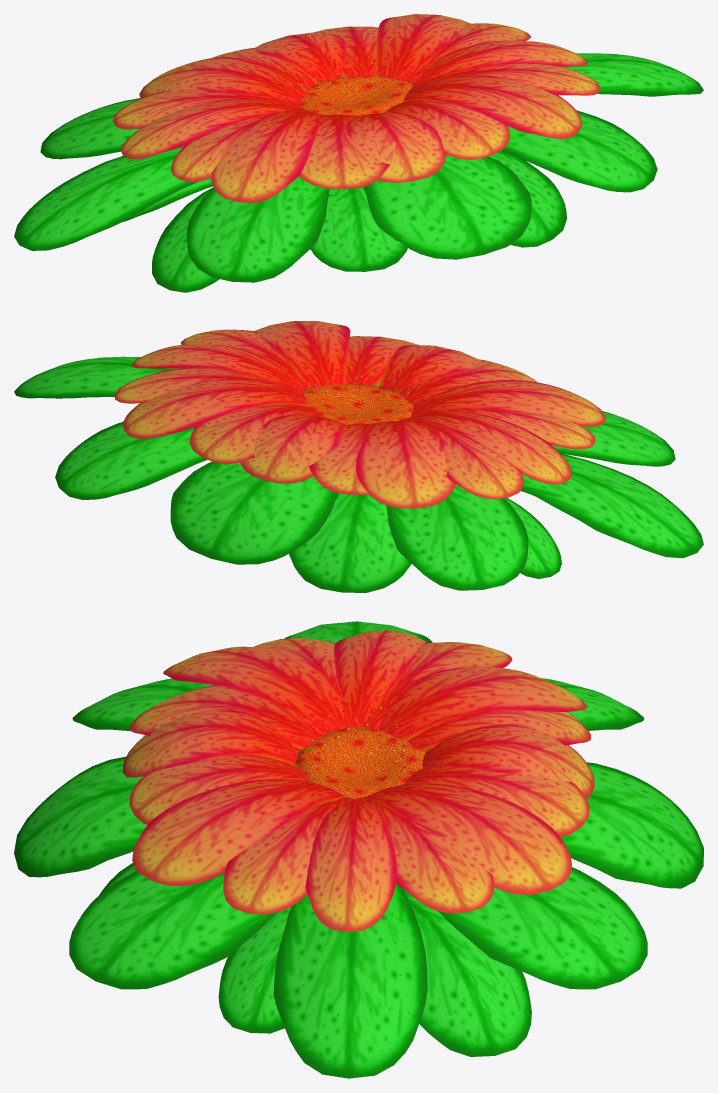
The model's file is hierba.obj.
3 views of the same model, one above another, from view 1: azimuth 30°, elevation 25°; view 2: azimuth 150°, elevation 25°; view 3: azimuth 270°, elevation 25° (orthographic). The views are drawn at different scales.
Visible parts, largest first — view 1: Plane033_Mesh.016, Plane031_Mesh.014, Plane032_Mesh.015, Plane028_Mesh.010, Plane037_Mesh.020, Plane036_Mesh.019, Plane049_Mesh.032, Plane035_Mesh.018, Plane038_Mesh.021, Plane039_Mesh.022, Plane041_Mesh.024, Plane021_Mesh.003 (+15 smaller); view 2: Plane019_Mesh.001, Plane034_Mesh.017, Plane032_Mesh.015, Plane046_Mesh.029, Plane024_Mesh.006, Plane039_Mesh.022, Plane041_Mesh.024, Plane037_Mesh.020, Plane040_Mesh.023, Plane038_Mesh.021, Plane036_Mesh.019, Plane026_Mesh.008 (+13 smaller); view 3: Plane026_Mesh.008, Plane028_Mesh.010, Plane024_Mesh.006, Plane036_Mesh.019, Plane041_Mesh.024, Plane043_Mesh.026, Plane019_Mesh.001, Plane033_Mesh.016, Plane042_Mesh.025, Plane039_Mesh.022, Plane037_Mesh.020, Plane035_Mesh.018 (+15 smaller).
Part boxes in pixels (x1,y1,x2,y2): Plane033_Mesh.016: (363, 155, 531, 259); Plane031_Mesh.014: (186, 176, 329, 282); Plane032_Mesh.015: (14, 146, 198, 250); Plane028_Mesh.010: (501, 110, 657, 192); Plane037_Mesh.020: (211, 111, 323, 203); Plane036_Mesh.019: (403, 75, 582, 139); Plane049_Mesh.032: (310, 187, 407, 271); Plane035_Mesh.018: (345, 112, 446, 182); Plane038_Mesh.021: (120, 99, 299, 159); Plane039_Mesh.022: (139, 57, 306, 102); Plane041_Mesh.024: (374, 14, 470, 81); Plane021_Mesh.003: (299, 114, 389, 189); Plane019_Mesh.001: (170, 461, 338, 564); Plane034_Mesh.017: (386, 484, 528, 590); Plane032_Mesh.015: (521, 453, 703, 558); Plane046_Mesh.029: (289, 493, 411, 592); Plane024_Mesh.006: (55, 422, 207, 499); Plane039_Mesh.022: (356, 421, 455, 508); Plane041_Mesh.024: (123, 378, 306, 438); Plane037_Mesh.020: (413, 380, 605, 426); Plane040_Mesh.023: (240, 414, 347, 483); Plane038_Mesh.021: (412, 411, 572, 484); Plane036_Mesh.019: (254, 321, 350, 387); Plane026_Mesh.008: (14, 356, 181, 398); Plane026_Mesh.008: (273, 883, 427, 1078); Plane028_Mesh.010: (69, 871, 277, 989); Plane024_Mesh.006: (437, 867, 647, 989); Plane036_Mesh.019: (132, 779, 344, 885); Plane041_Mesh.024: (367, 783, 571, 895); Plane043_Mesh.026: (404, 890, 531, 1056); Plane019_Mesh.001: (560, 762, 703, 888); Plane033_Mesh.016: (14, 756, 147, 877); Plane042_Mesh.025: (305, 801, 396, 931); Plane039_Mesh.022: (379, 666, 586, 740); Plane037_Mesh.020: (163, 646, 344, 732); Plane035_Mesh.018: (122, 709, 300, 777).
Size of the model in its own units: 62.09 by 11.08 by 40.24.
